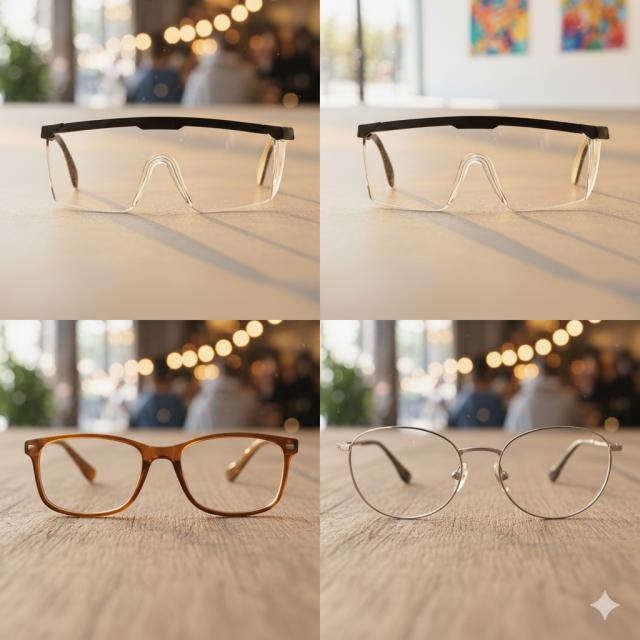oculos-epi: (41, 116, 293, 213), (358, 116, 608, 211)
sem_oculos: (339, 427, 621, 519), (25, 432, 298, 517)
